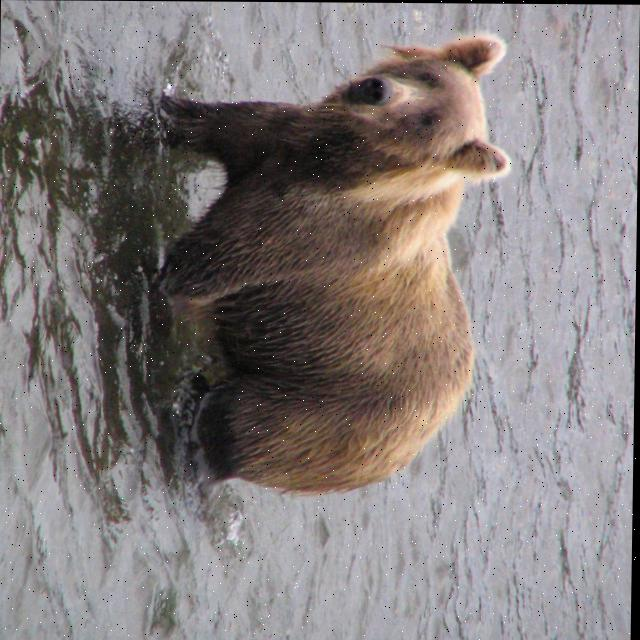bear face: (168, 36, 515, 490)
